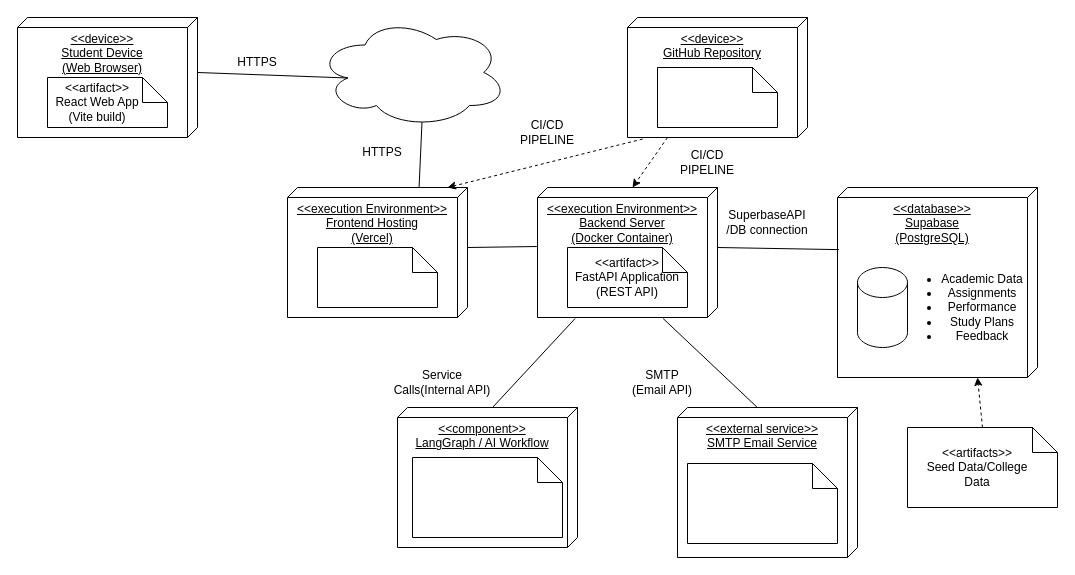
The diagram is 1075 pixels wide and 575 high, and some of its shapes have lost their labels. The shapes that lost their labels are listed below. From the top down, each one's centre as x and y in pixels, then its label:
At pixel 412 72: "Internet".
At pixel 717 97: "<<artifact>> Source Code (Frontend + Backend)".
At pixel 377 277: "<<artifact>> index.html Static JS/CSS Bundle".
At pixel 487 497: "<<artifact>> Priority scoring Study Plan Generation Feedback Re-planning".
At pixel 762 503: "<<artifact>> Reminders Email Notifications".
